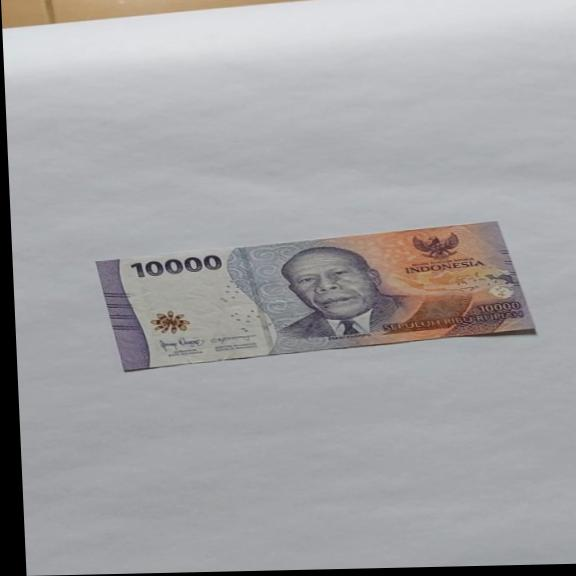Kertas: (94, 218, 538, 373)
